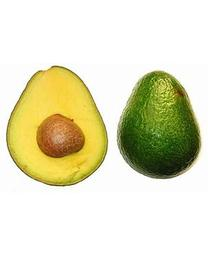avocado: (8, 66, 109, 187), (115, 71, 203, 181)
